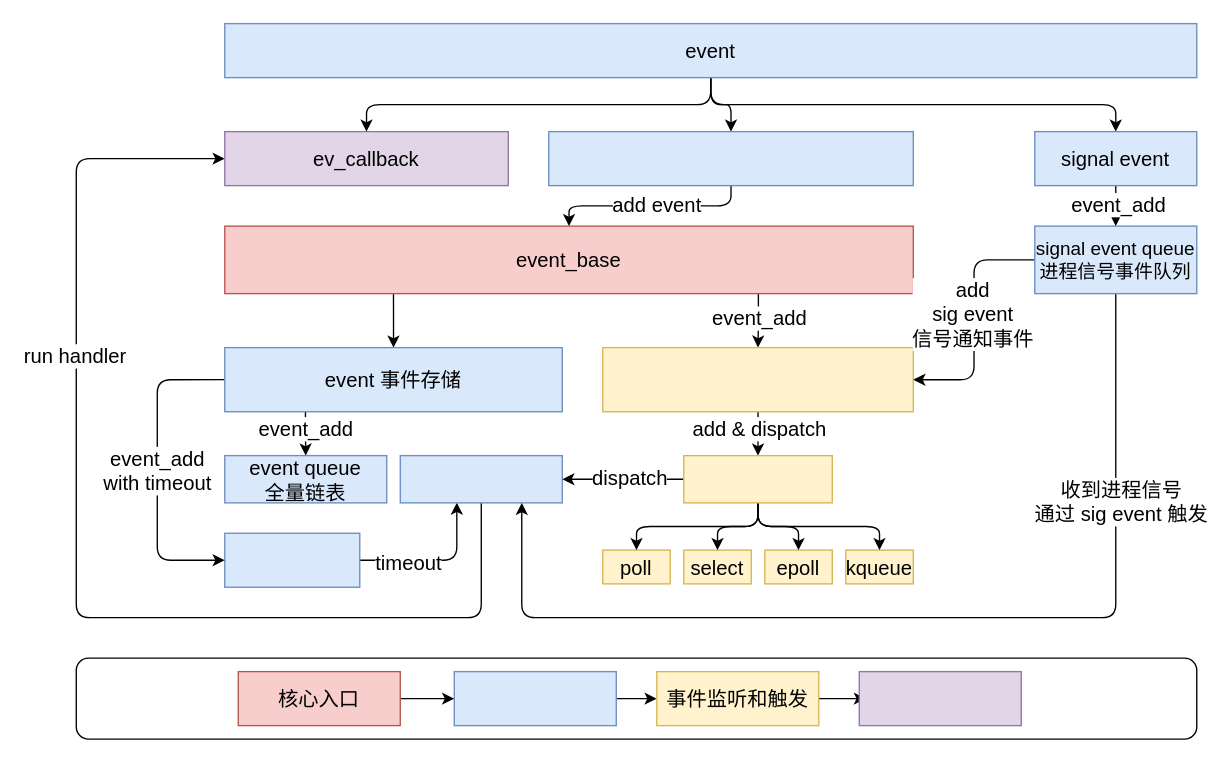
The diagram is 1230 pixels wide and 763 high, and some of its shapes have lost their labels. The box of each missing label's shape, as (x1, y1, x2, y2) in pixels:
active event queue 带优先级活跃事件: (399, 454, 562, 503)
event rb tree 超时红黑树: (223, 532, 360, 587)
eventloop 事件循环: (601, 346, 913, 412)
eventop: (682, 454, 832, 503)
io event: (547, 130, 913, 186)
事件回调: (858, 670, 1021, 726)
事件存储: (453, 670, 616, 726)
